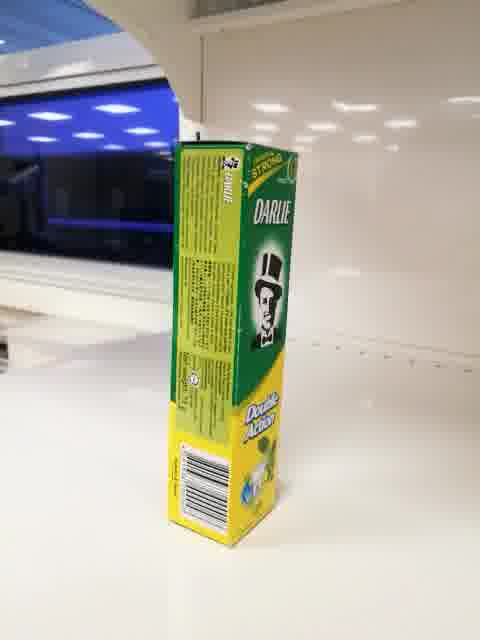toothpaste: (167, 141, 297, 549)
